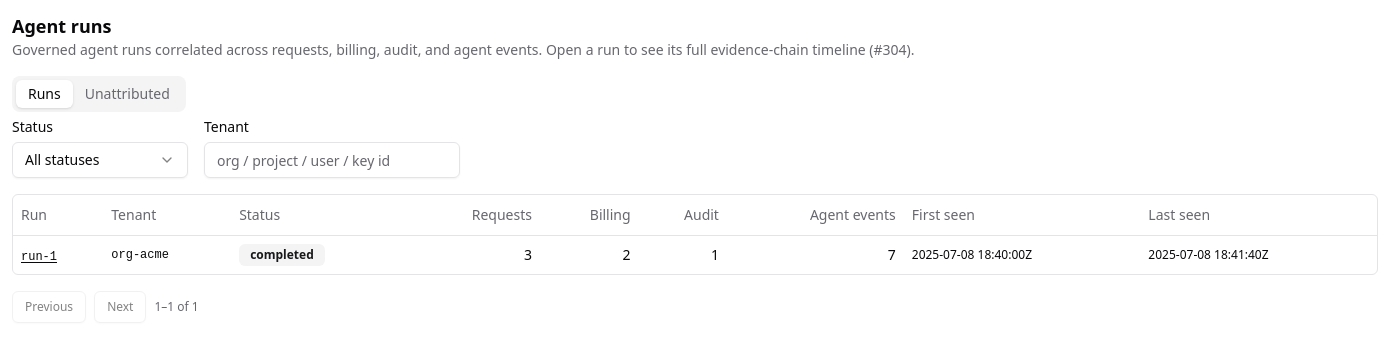
it: AgentRunsPage — unattributed activity › renders an out-of-window row as inactive with no fabricated stop time
The width and height of the screenshot is (1378, 350).
Click the tab "Unattributed" at [127, 94], box [73, 80, 182, 108]
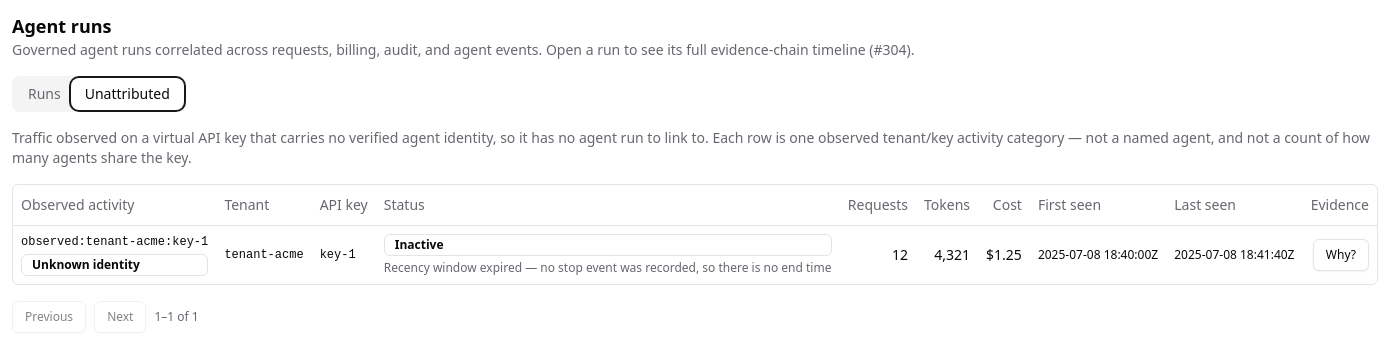
Result: the text "observed:tenant-acme:key-1" is shown at [21, 234, 208, 250]
Result: the text "Inactive" is shown at [384, 234, 832, 256]
Result: the text "Recency window expired — no stop event was recorded, so there is no end time" is shown at [384, 260, 832, 276]
